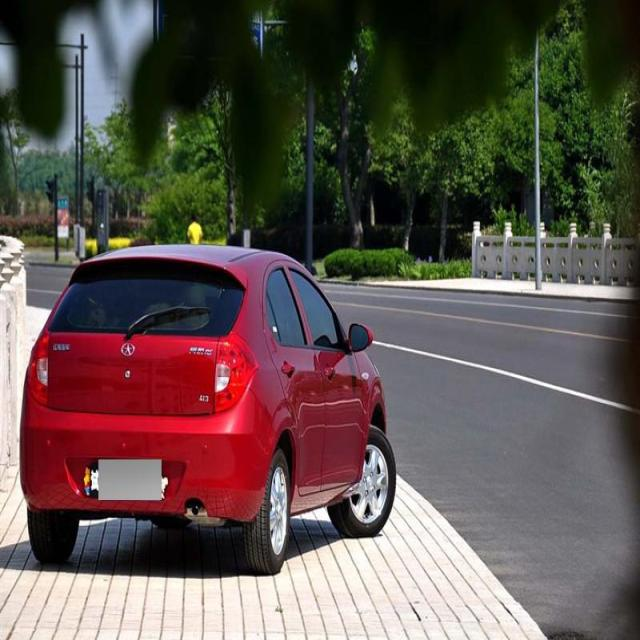back_glass: (51, 260, 248, 338)
back_left_side_light: (23, 326, 56, 411)
back_right_side_light: (212, 336, 261, 419)
front_right_side_door: (286, 255, 362, 496)
front_right_side_mirror: (344, 318, 372, 354)
rear_bumper: (18, 391, 269, 514)
wheel: (330, 427, 396, 535), (246, 452, 290, 574), (27, 512, 84, 564)
